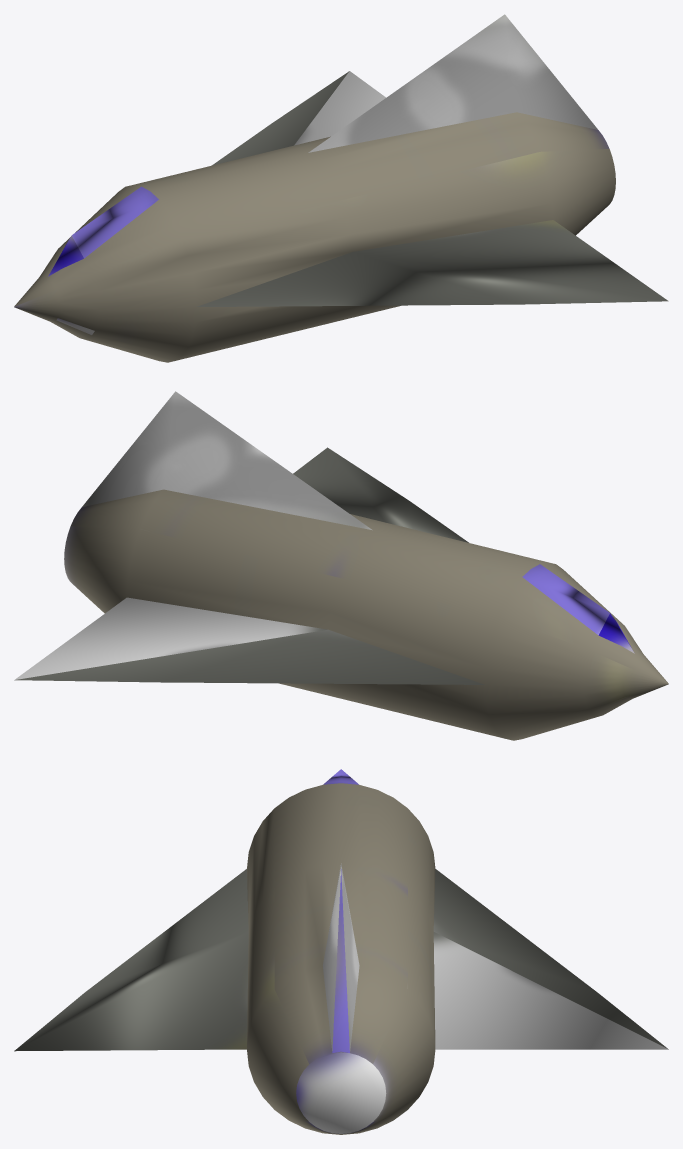
Rendered from Fighter.dae.
The picture shows the model from 3 angles, top to bottom: view 1: azimuth 30°, elevation 25°; view 2: azimuth 150°, elevation 25°; view 3: azimuth 270°, elevation 25°; orthographic projection. The views are drawn at different scales.
Visible parts, largest first — view 1: Cylinder; view 2: Cylinder; view 3: Cylinder.
Boxes of the visible parts, bbox=[...] form: Cylinder: bbox=[14, 14, 668, 362]; Cylinder: bbox=[14, 391, 668, 740]; Cylinder: bbox=[14, 769, 668, 1134].
Bounding box in the file's own units: 4.56 × 4.3 × 1.92.
Materials: 1 (1 with a texture image).
